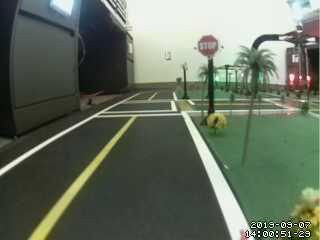Stop_Sign: (193, 29, 227, 63)
